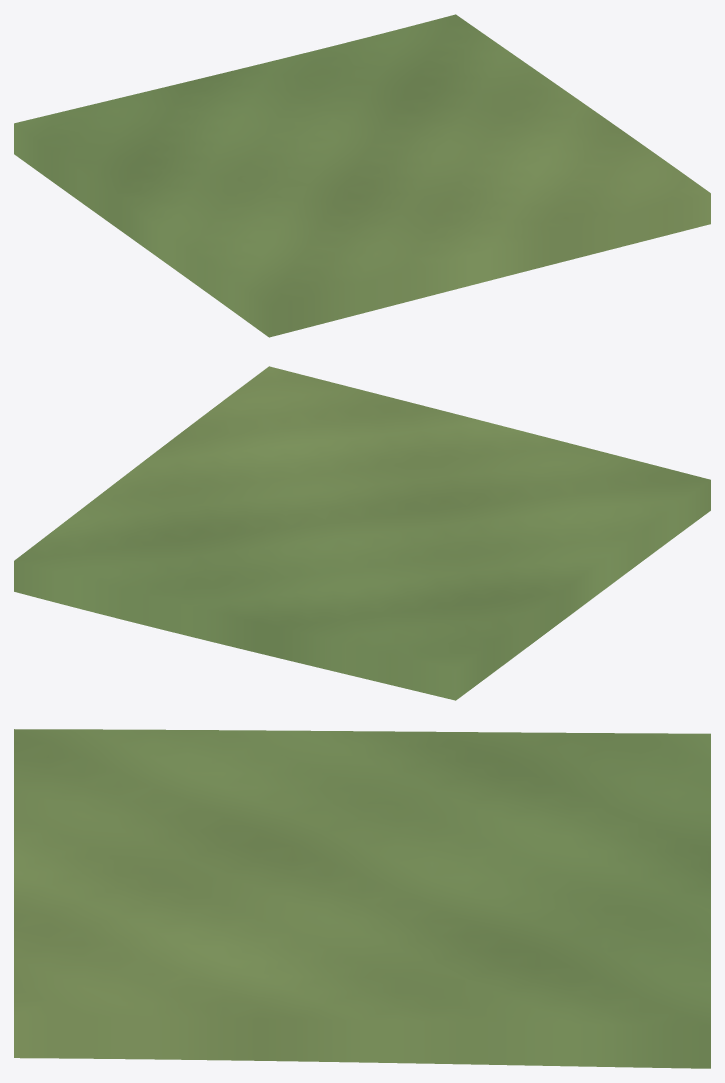
3 renders of one model, top to bottom at view 1: azimuth 30°, elevation 25°; view 2: azimuth 150°, elevation 25°; view 3: azimuth 270°, elevation 25°, orthographic. The views are drawn at different scales.
Visible parts, largest first — view 1: terrain; view 2: terrain; view 3: terrain.
Part boxes in pixels (bbox=[...]): terrain: bbox=[14, 14, 710, 337]; terrain: bbox=[14, 366, 710, 700]; terrain: bbox=[14, 729, 710, 1068].
Bounding box in the file's own units: 30 × 2.63 × 30.
